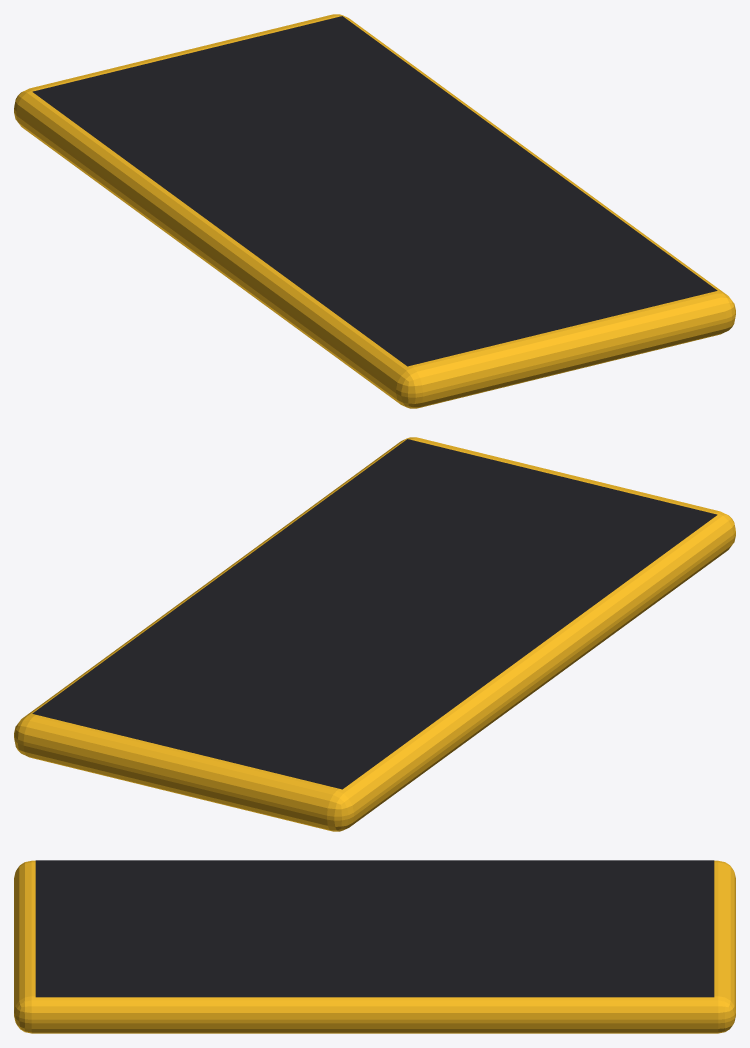
File: iqoo-neo-model-188-mid-range-2023.glb
The picture shows the model from 3 angles, top to bottom: view 1: azimuth 30°, elevation 25°; view 2: azimuth 150°, elevation 25°; view 3: azimuth 270°, elevation 25°; orthographic projection. The views are drawn at different scales.
Parts seen in each view (by area): view 1: Phone_Screen, Phone_Body; view 2: Phone_Screen, Phone_Body; view 3: Phone_Screen, Phone_Body.
Part boxes in pixels (x1=…): Phone_Screen: x1=32, y1=16, x2=717, y2=366; Phone_Body: x1=14, y1=14, x2=735, y2=408; Phone_Screen: x1=32, y1=439, x2=717, y2=789; Phone_Body: x1=14, y1=437, x2=735, y2=831; Phone_Screen: x1=35, y1=860, x2=714, y2=997; Phone_Body: x1=14, y1=860, x2=735, y2=1033.
Bounding box in the file's own units: 0.0759 × 0.0086 × 0.1556.
